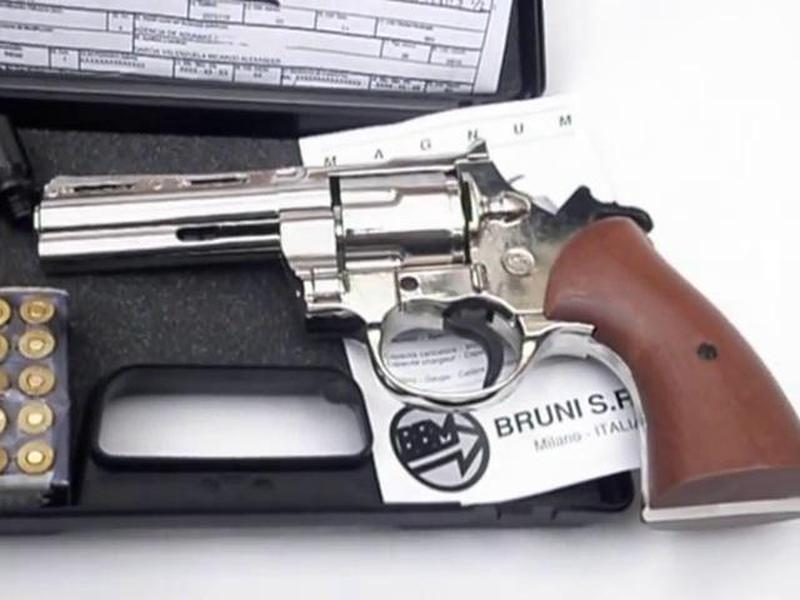Revolver: (31, 128, 709, 454)
